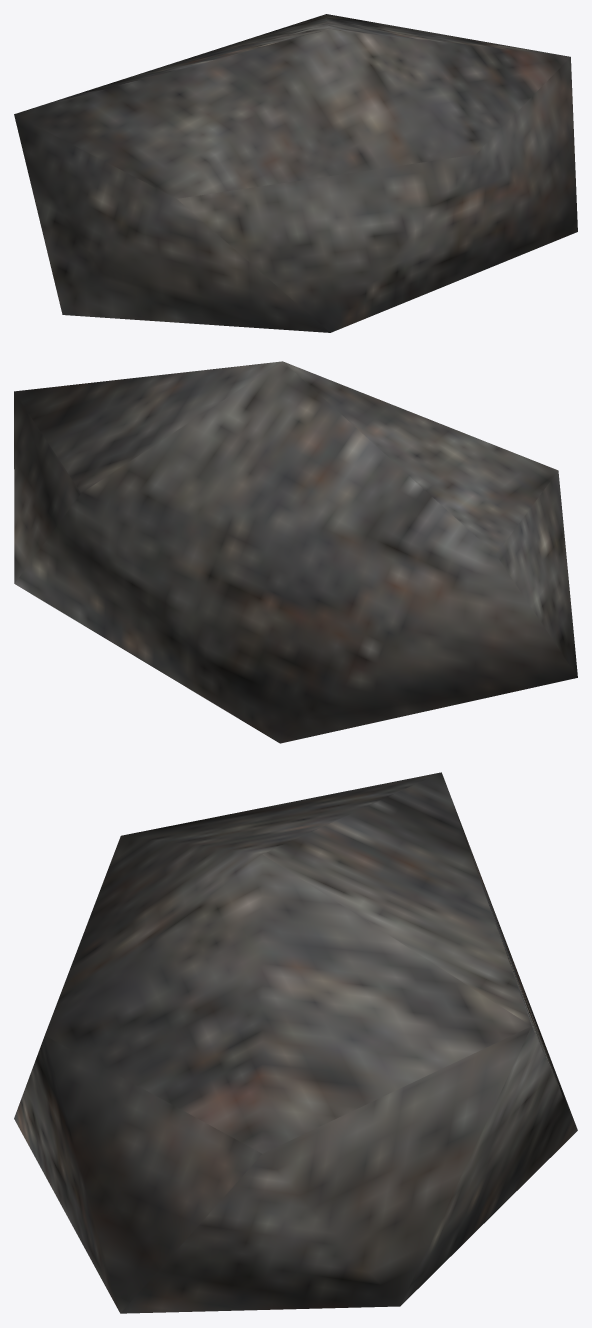
Rendered from SM_HarvestRock_Chip04.fbx.
3 views of the same model, one above another, from view 1: azimuth 30°, elevation 25°; view 2: azimuth 150°, elevation 25°; view 3: azimuth 270°, elevation 25° (orthographic). The views are drawn at different scales.
Parts seen in each view (by area): view 1: SM_HarvestRock_Chip04; view 2: SM_HarvestRock_Chip04; view 3: SM_HarvestRock_Chip04.
Part boxes in pixels (box(x1,y1,x2,y2)): SM_HarvestRock_Chip04: box(14, 14, 577, 332); SM_HarvestRock_Chip04: box(14, 361, 577, 743); SM_HarvestRock_Chip04: box(14, 772, 577, 1313).
Size of the model in its own units: 39.6 by 25.98 by 22.13.
Materials: 1 (1 with a texture image).
